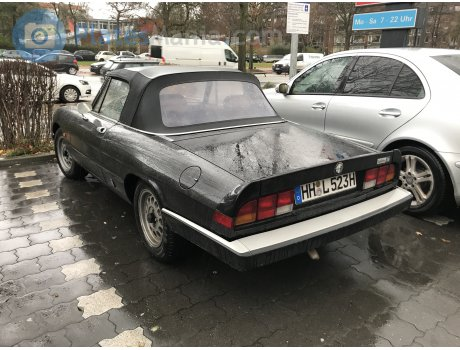License Plates: (301, 183, 352, 191)
